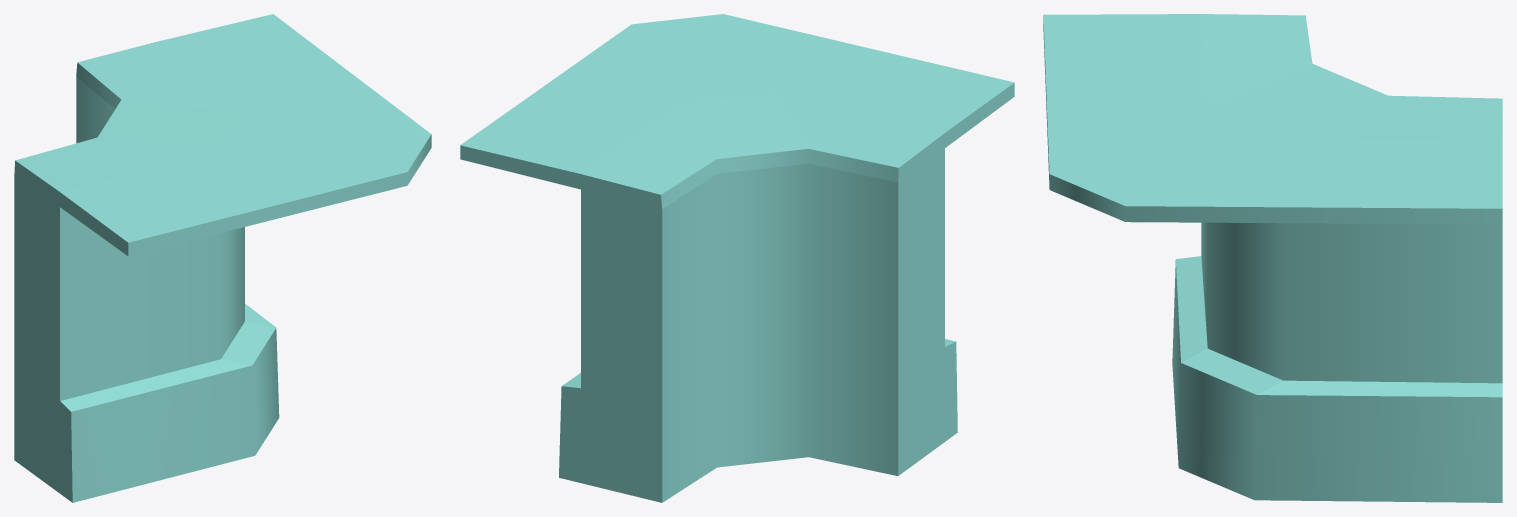
File: DinerBarCorner_Collision.fbx
3 views of the same model, side by side, from view 1: azimuth 30°, elevation 25°; view 2: azimuth 150°, elevation 25°; view 3: azimuth 270°, elevation 25° (orthographic). The views are drawn at different scales.
Parts seen in each view (by area): view 1: DinerBarCorner_Collision; view 2: DinerBarCorner_Collision; view 3: DinerBarCorner_Collision.
Boxes of the visible parts, x1,y1,x2,y2 form: DinerBarCorner_Collision: (14, 14, 431, 502); DinerBarCorner_Collision: (460, 14, 1014, 502); DinerBarCorner_Collision: (1043, 14, 1502, 502).
Bounding box in the file's own units: 1.17 × 0.9815 × 1.17.
